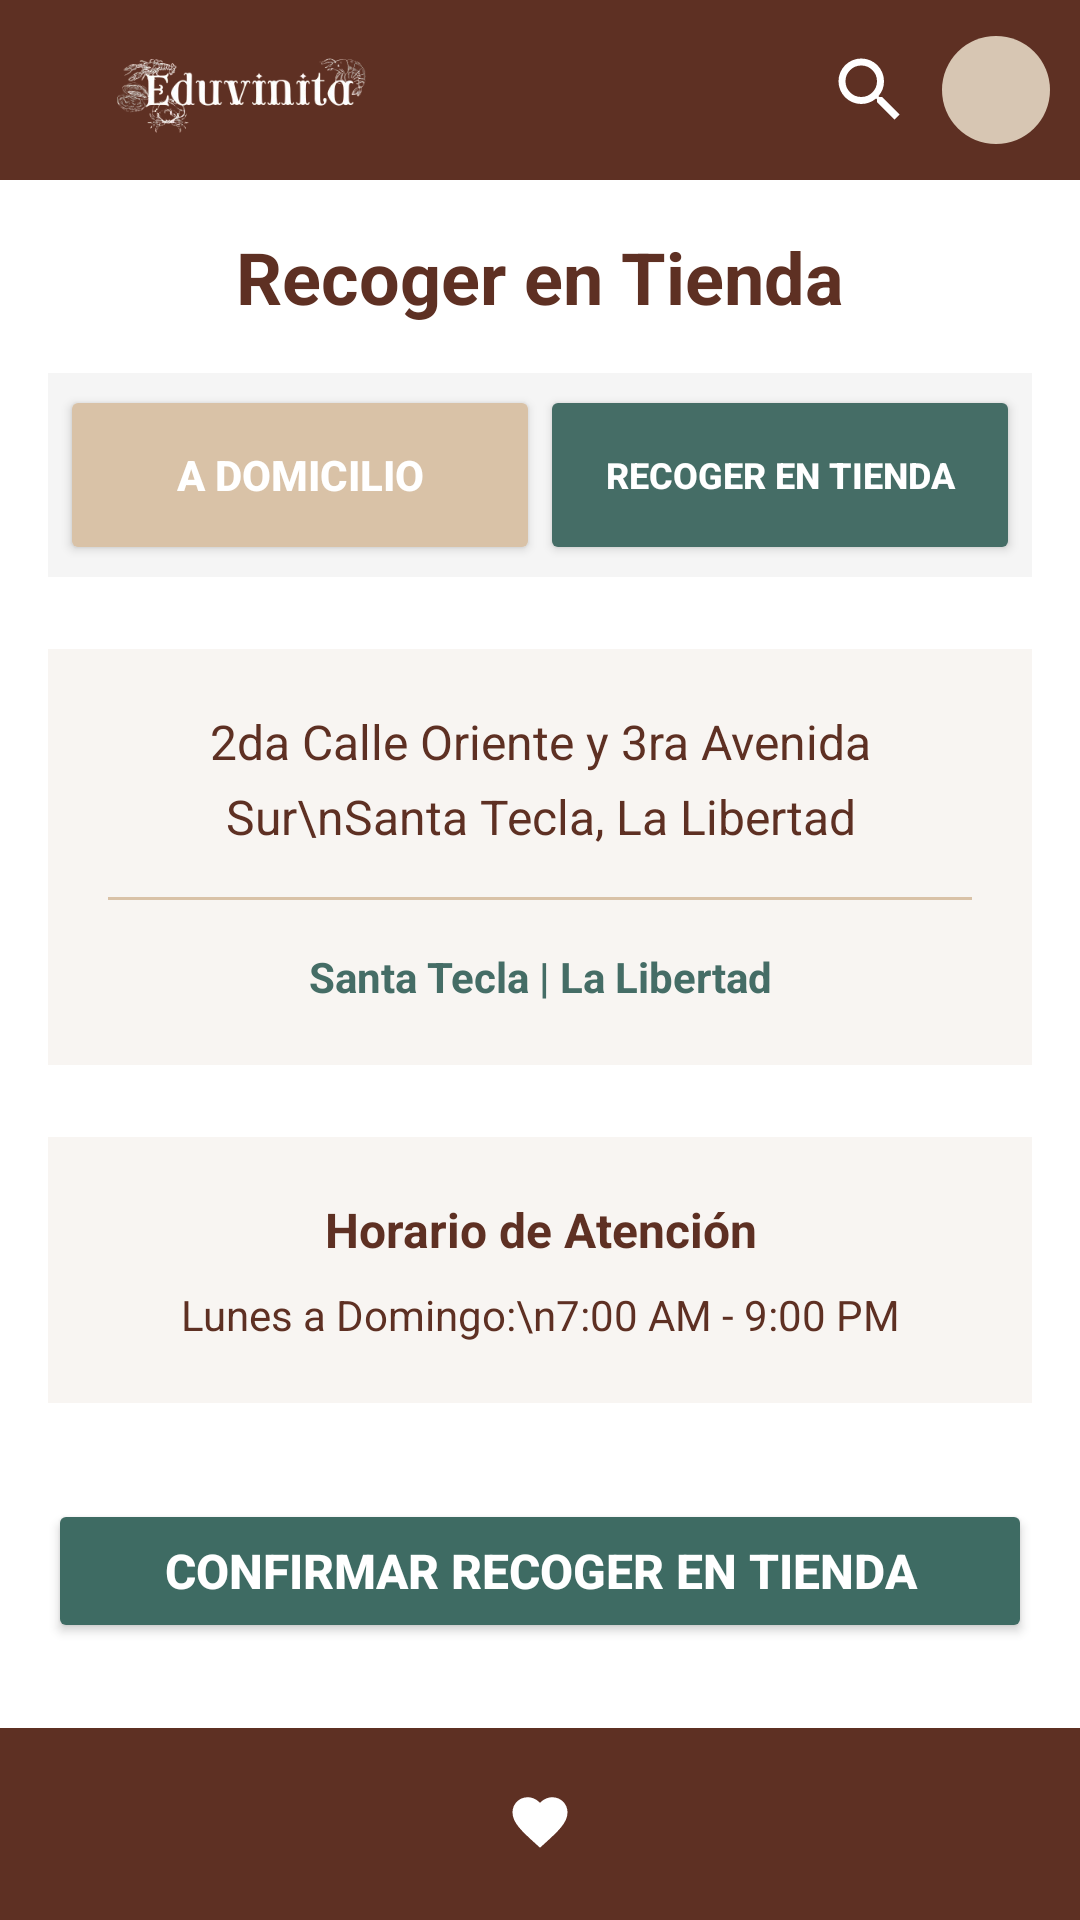

Locate icon controls on the screen. Image size 1080×1920, boxes as box=[x1, y1, x2, y2].
favorite: box=[512, 1797, 568, 1848]
search: box=[838, 58, 900, 120]
